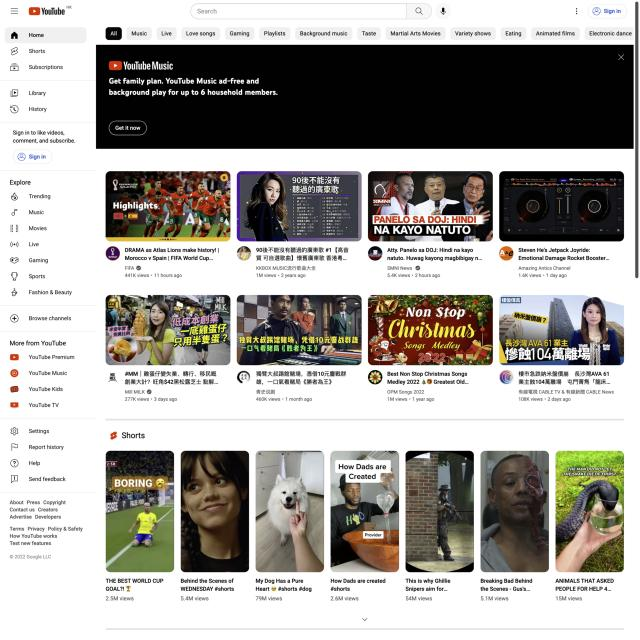CheckBox: (587, 3, 628, 19), (109, 120, 147, 136), (12, 150, 53, 164), (406, 2, 432, 19)
CheckedTextView: (190, 2, 432, 20)
Input field: (108, 75, 280, 98)
accordion: (105, 625, 626, 632), (104, 416, 625, 422)
bag: (0, 0, 634, 24)
card: (95, 44, 634, 150)
carousel: (9, 104, 19, 114), (9, 458, 19, 468), (10, 7, 20, 16), (10, 62, 19, 72), (17, 152, 26, 162), (9, 353, 20, 361), (10, 192, 19, 201), (10, 224, 19, 233), (10, 314, 19, 323), (10, 401, 19, 410), (617, 52, 626, 61), (592, 7, 601, 16), (10, 30, 18, 40), (10, 46, 18, 56), (10, 271, 18, 281), (9, 385, 19, 393), (10, 426, 18, 436), (10, 442, 18, 452), (10, 474, 18, 484), (9, 257, 20, 264), (10, 89, 18, 98), (10, 240, 19, 248), (10, 369, 19, 377), (110, 431, 118, 440), (415, 7, 423, 16), (440, 7, 447, 16), (11, 288, 18, 296), (11, 208, 17, 216), (362, 617, 368, 622), (575, 7, 578, 15)
copy: (236, 169, 361, 242), (105, 171, 232, 242), (368, 170, 493, 242), (180, 450, 250, 572), (105, 450, 174, 572), (330, 450, 399, 572), (556, 450, 624, 573), (256, 450, 324, 572), (406, 450, 474, 572), (481, 450, 548, 572)
data feed: (115, 125, 141, 132), (28, 153, 48, 161)
date picker: (28, 3, 74, 18)
decoration: (9, 191, 73, 296), (8, 352, 76, 411), (8, 426, 70, 484), (10, 7, 19, 15)
footer: (197, 8, 217, 15)
icon: (105, 27, 634, 40)
